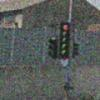traffic lights: (60, 21, 70, 59), (46, 34, 58, 60), (72, 40, 80, 58)
